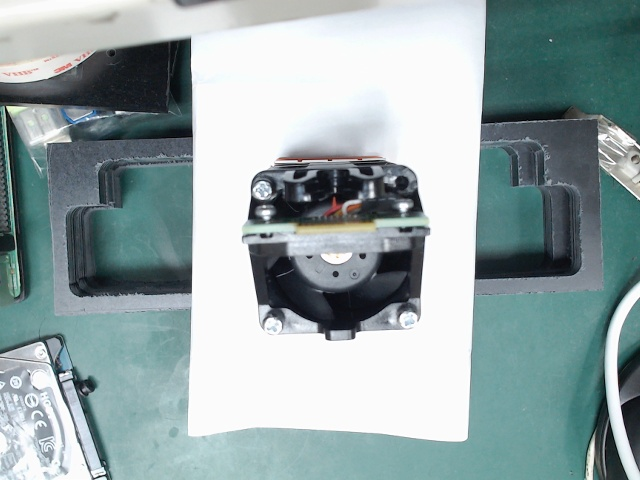Phase1_panel_screw_loose: (365, 191, 449, 258), (228, 199, 300, 269)
Phase1_screw_loose: (365, 294, 436, 353), (230, 162, 311, 204), (239, 302, 306, 352)
